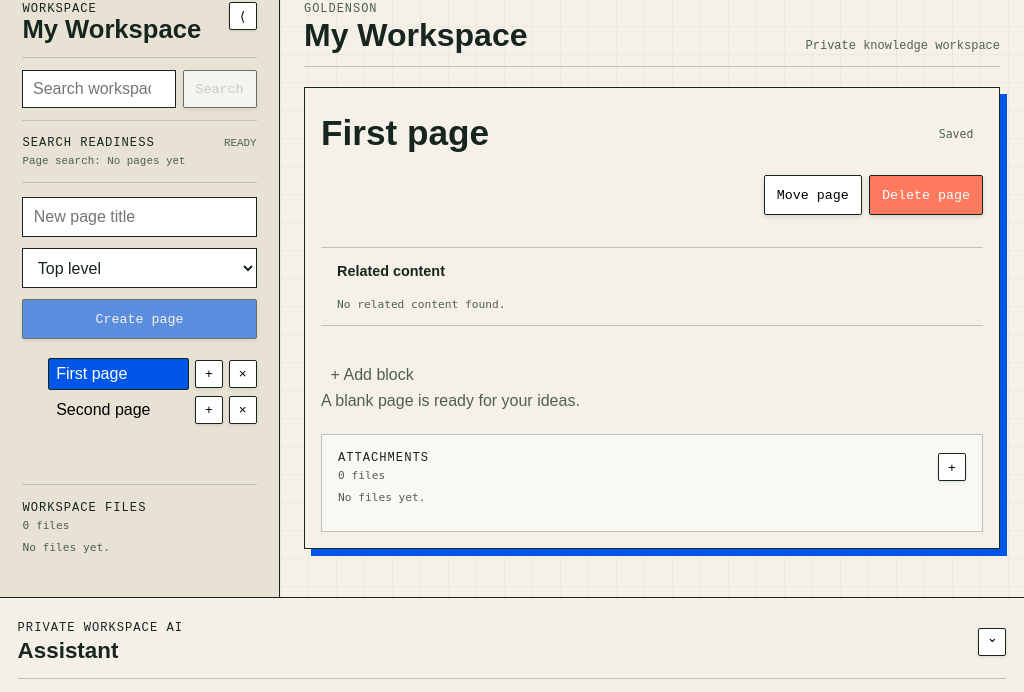
Test: App product language › opens and highlights a block result from workspace search
Type "matching paragraph" into the search field labelled "Search workspace". click: (99, 89)
box: [22,70,176,108]
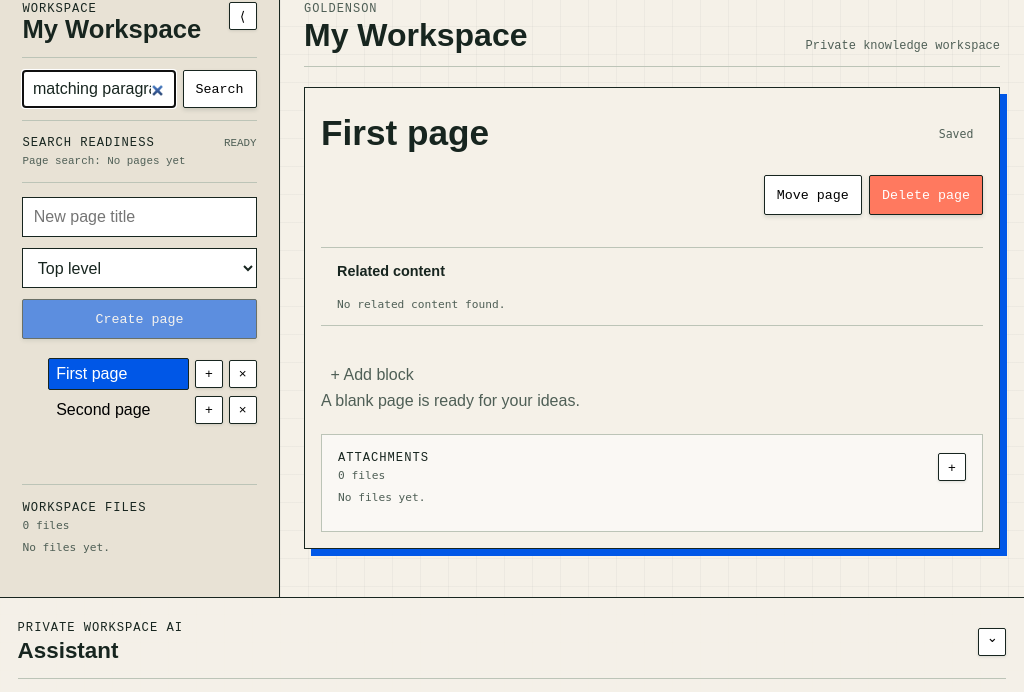
Click the button "Search". click: (220, 89)
box: [183,70,257,108]
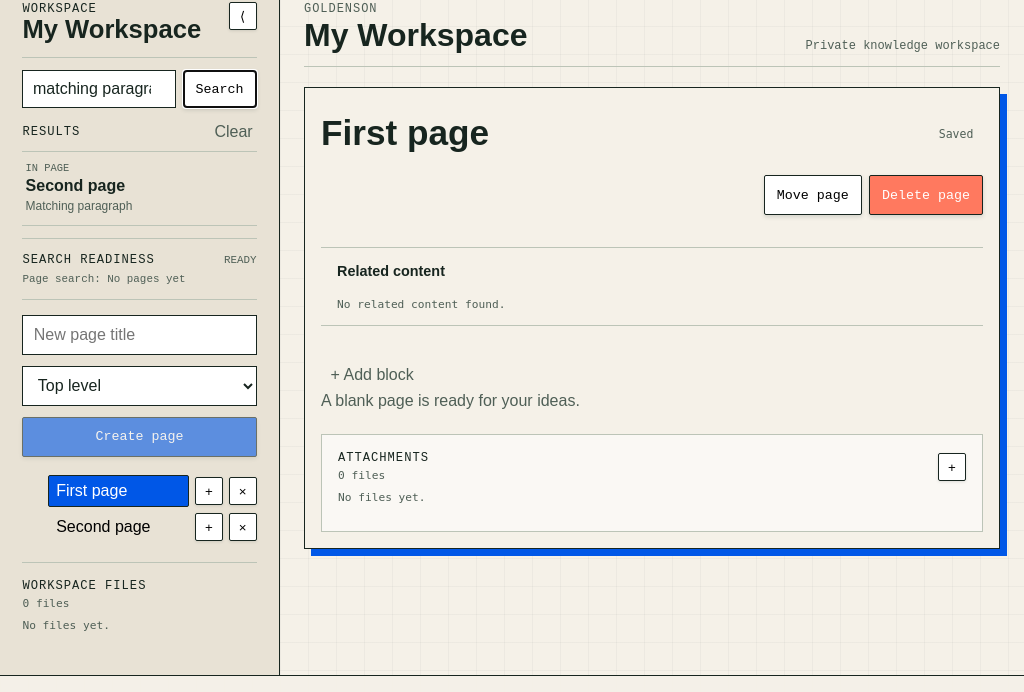
Click the button "In page Second page Matching paragraph". click: (140, 188)
box: [22,151,257,225]
(page scrolled)
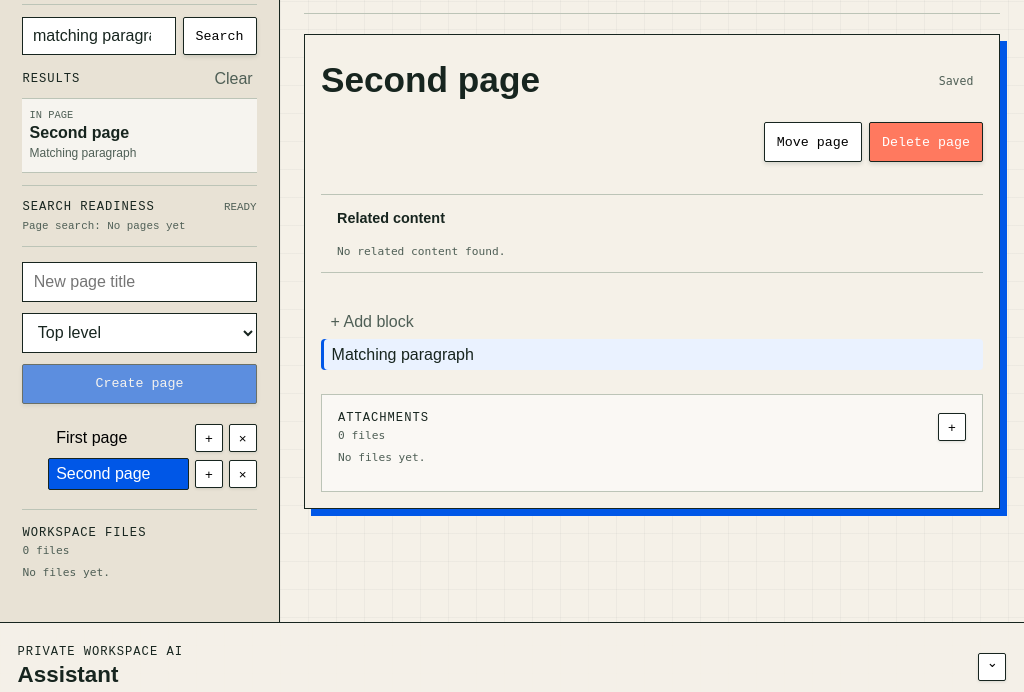
Check: the element named "Workspace search" is shown, box [22,4,257,186]
Check: the field named "Page title" holds "Second page", box [321,51,929,111]
